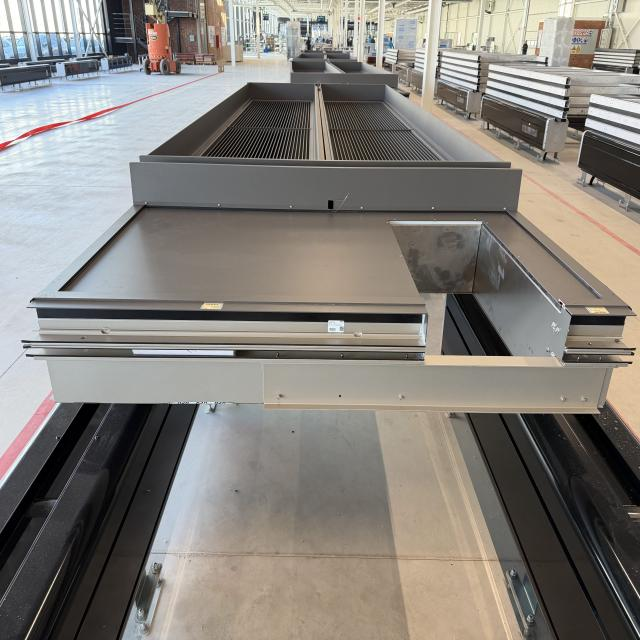vijak_na_pola_pritegnut: (268, 387, 298, 406)
vijak_nedostaje: (333, 388, 348, 404)
